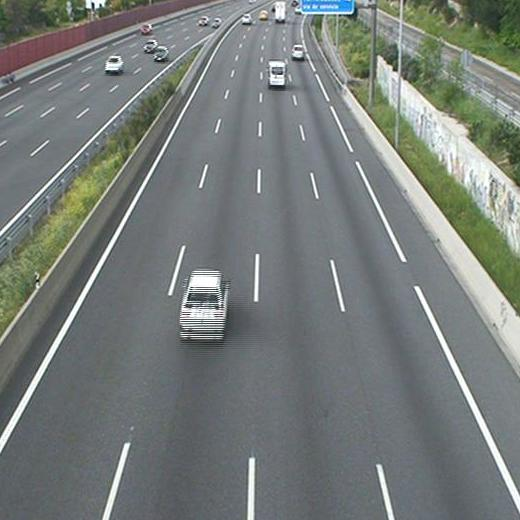car: (179, 269, 228, 343), (291, 43, 305, 60)
van: (267, 59, 287, 88)
